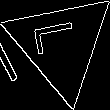L_E: (34, 24, 88, 64)
